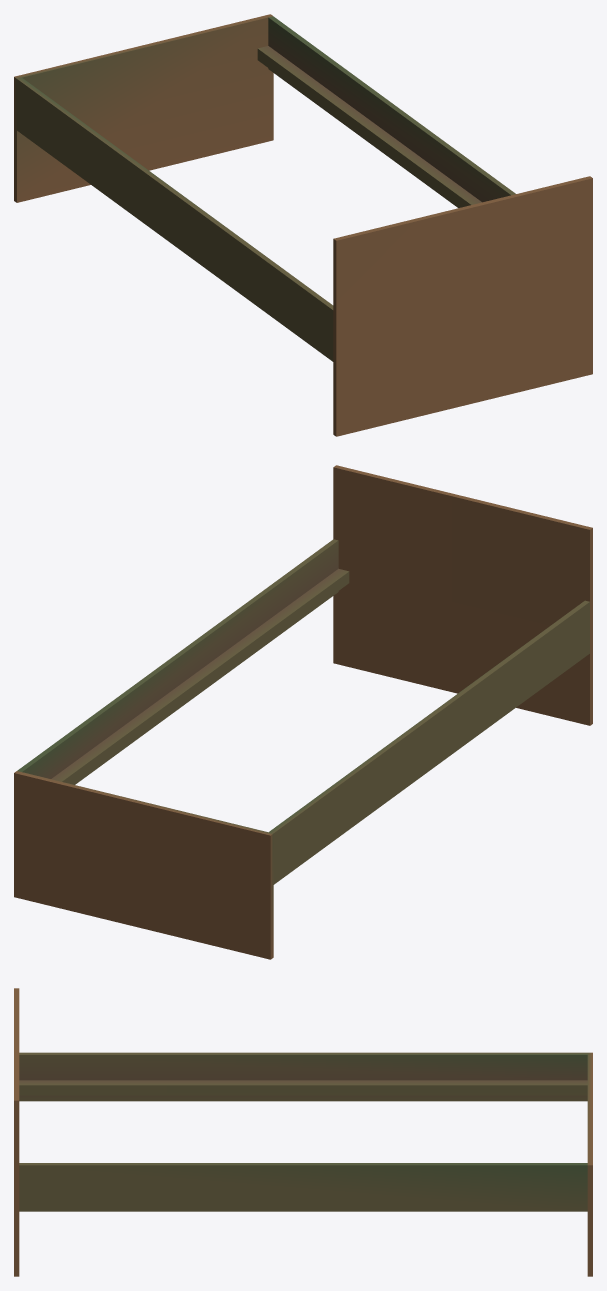
The picture shows the model from 3 angles, top to bottom: view 1: azimuth 30°, elevation 25°; view 2: azimuth 150°, elevation 25°; view 3: azimuth 270°, elevation 25°; orthographic projection. The views are drawn at different scales.
Visible parts, largest first — view 1: headboard, footboard, rail_board, rail_board.001; view 2: headboard, footboard, rail_board, rail_board.001; view 3: rail_board, rail_board.001, headboard, footboard.
Boxes of the visible parts, bbox=[...] form: headboard: bbox=[333, 176, 592, 436]; footboard: bbox=[14, 14, 273, 202]; rail_board: bbox=[17, 77, 333, 361]; rail_board.001: bbox=[257, 16, 515, 207]; headboard: bbox=[333, 465, 592, 725]; footboard: bbox=[14, 771, 273, 959]; rail_board: bbox=[269, 600, 589, 884]; rail_board.001: bbox=[17, 539, 349, 784]; rail_board: bbox=[19, 1052, 587, 1101]; rail_board.001: bbox=[19, 1163, 587, 1211]; headboard: bbox=[14, 988, 19, 1276]; footboard: bbox=[587, 1052, 592, 1276].
Size of the model in its own units: 0.9194 by 0.6709 by 2.
